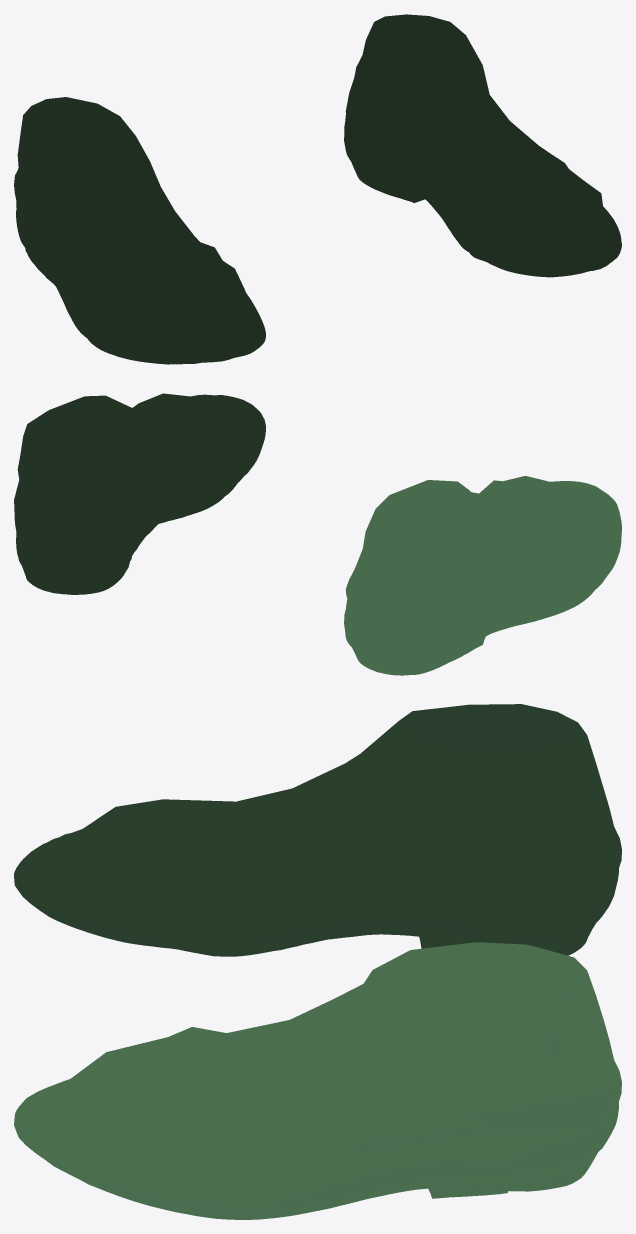
File: female_kid_shoes.glb
The picture shows the model from 3 angles, top to bottom: view 1: azimuth 30°, elevation 25°; view 2: azimuth 150°, elevation 25°; view 3: azimuth 270°, elevation 25°; orthographic projection. The views are drawn at different scales.
Visible parts, largest first — view 1: female_kid_shoes.001; view 2: female_kid_shoes.001; view 3: female_kid_shoes.001.
Part boxes in pixels (<box>): female_kid_shoes.001: <box>14,14,621,364</box>; female_kid_shoes.001: <box>14,393,621,675</box>; female_kid_shoes.001: <box>14,704,621,1219</box>.
Size of the model in its own units: 30.3 by 8.41 by 22.19.
Materials: 1 (1 with a texture image).
